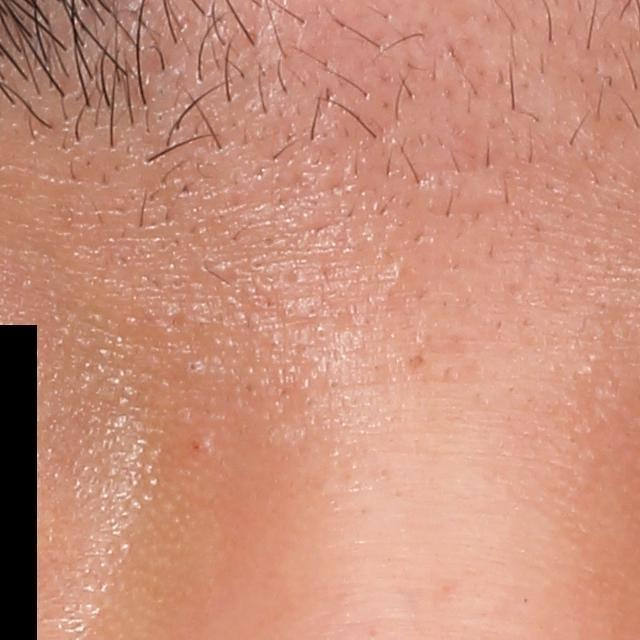comedo: (183, 359, 200, 377)
